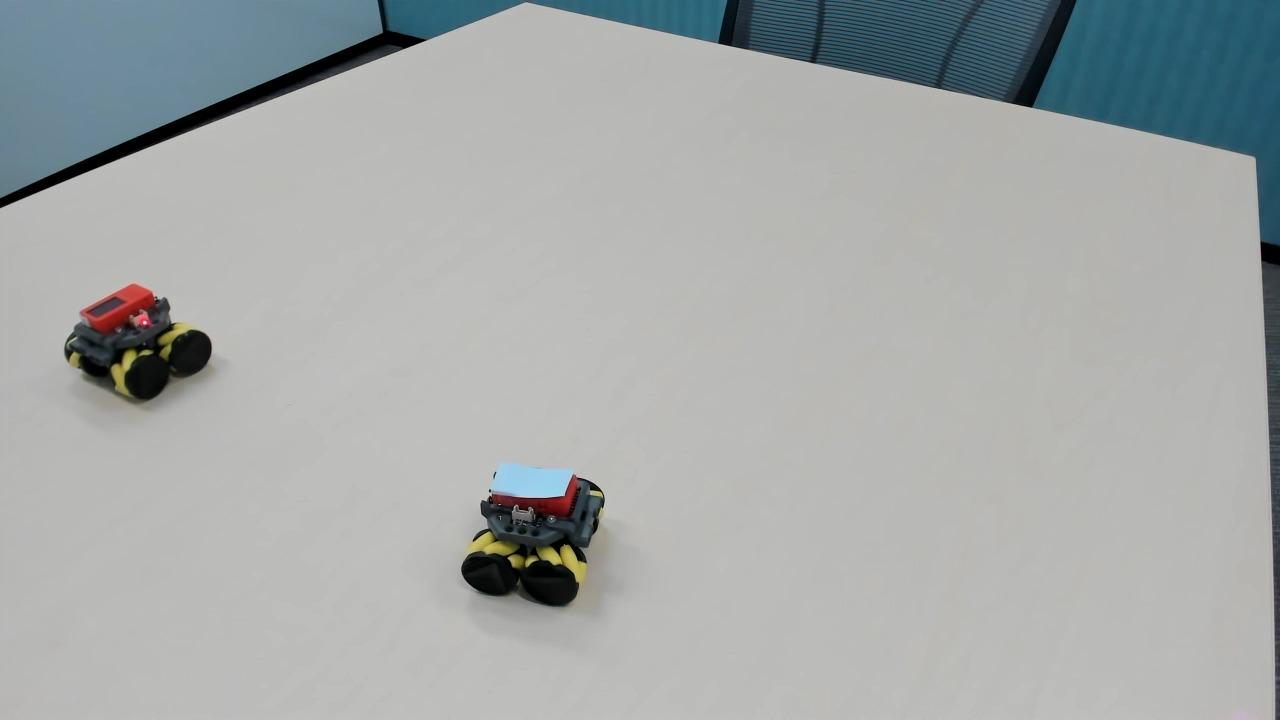B-Robot: (458, 450, 611, 611)
R-Robot: (51, 273, 218, 414)
